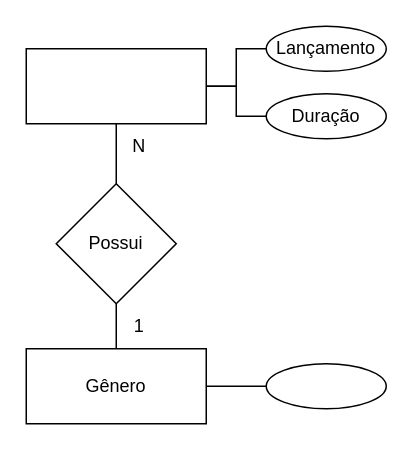
This 413x450 diagram has some shape labels left out. Here are the shapes that lost their labels. From the top down, the box of each, then its label:
(25, 47, 206, 124): Filme
(265, 362, 386, 409): Nome
